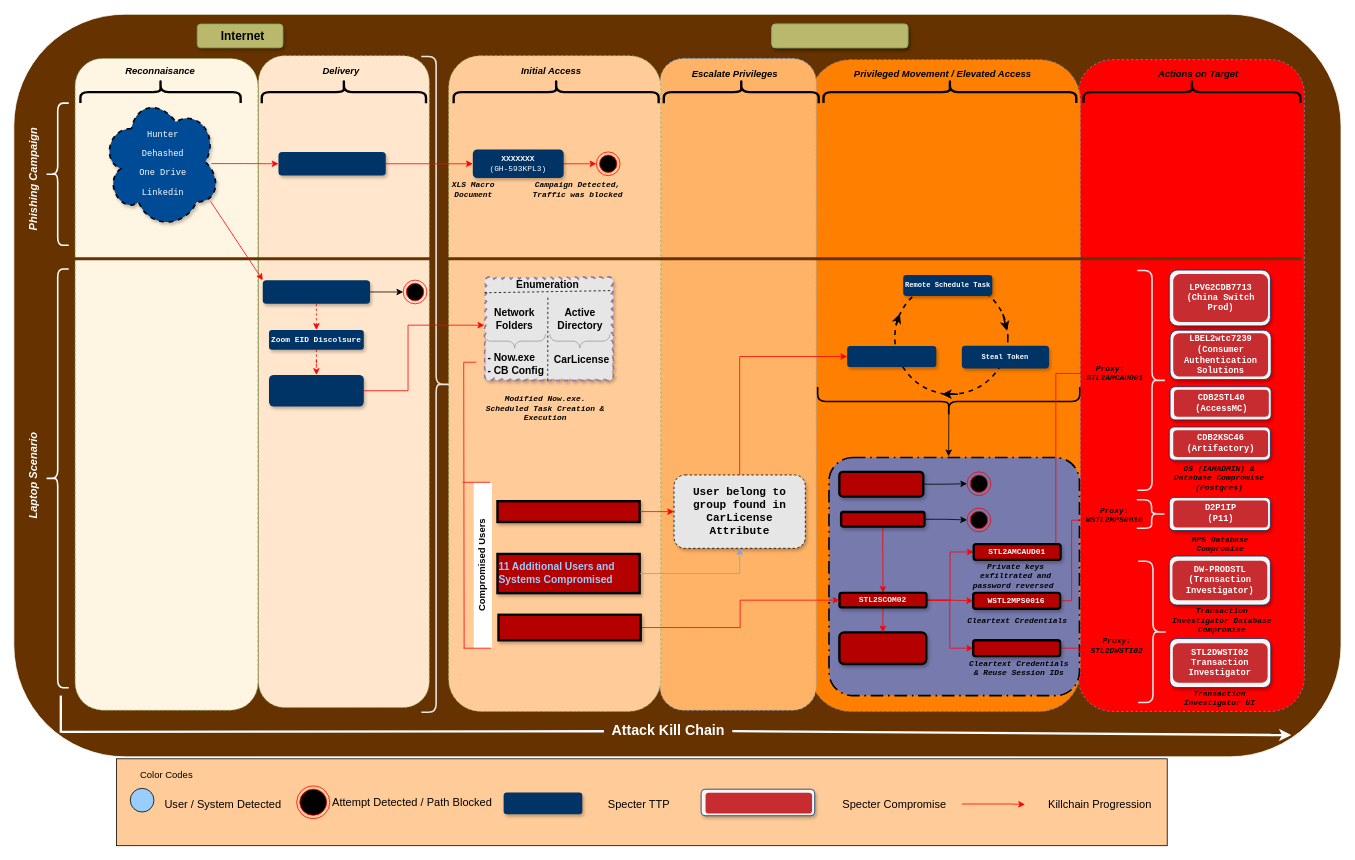
Some shapes in this 1355 by 860 pixel diagram are drawn without their labels. The shapes that lost their labels are listed below. From the top down, each one's centre as x and y in pixels, then its label:
At point (840, 36): "Mastercard Network".
At point (332, 164): "55 Mastercard Microsoft Teams users".
At point (316, 293): "Office 365 Password Spraying".
At point (892, 357): "File Upload".
At point (316, 391): "Stolen Laptop E131082 (AP-6HSS0FIMBFAN)".
At point (882, 485): "3 Servers Compromised".
At point (569, 512): "E021568 - (GH-512M7C3)".
At point (883, 520): "STL3DASPTW01".
At point (570, 628): "G018137 - (GH-9CY4KQ3)".
At point (883, 649): "6 Additioanl Servers Compromised".
At point (1017, 649): "STL2DWSTI02".
